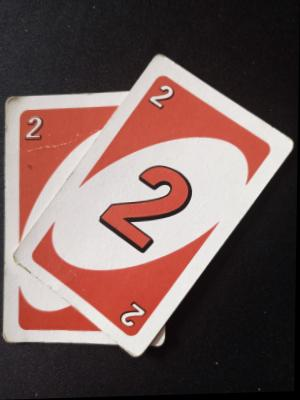num_2: (116, 292, 150, 329), (21, 108, 49, 147), (146, 80, 177, 115)
red: (4, 47, 295, 362), (0, 90, 129, 347)
